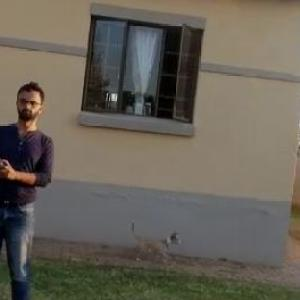follow: (0, 76, 64, 299)
null: (126, 215, 192, 266)
